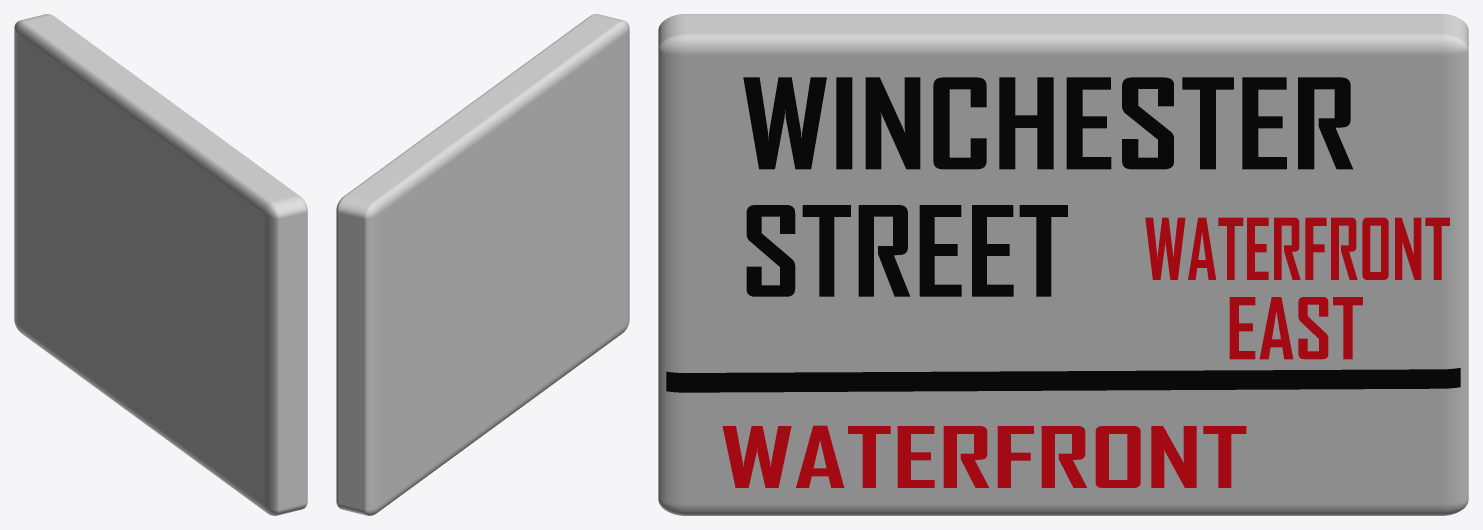
File: uk_styled_street_sign_32.fbx
3 views of the same model, side by side, from view 1: azimuth 30°, elevation 25°; view 2: azimuth 150°, elevation 25°; view 3: azimuth 270°, elevation 25° (orthographic). The views are drawn at different scales.
Visible parts, largest first — view 1: Cube; view 2: Cube; view 3: Cube, Text, Text.002, Text.001, Text.003, Text.004.
Boxes of the visible parts, left/top/right/bottom form: Cube: left=14, top=14, right=307, bottom=515; Cube: left=336, top=14, right=629, bottom=515; Cube: left=658, top=14, right=1468, bottom=515; Text: left=743, top=77, right=1352, bottom=169; Text.002: left=722, top=425, right=1246, bottom=487; Text.001: left=746, top=205, right=1067, bottom=296; Text.003: left=1145, top=217, right=1449, bottom=279; Text.004: left=1229, top=297, right=1362, bottom=359.
Size of the model in its own units: 1.63 by 11.91 by 18.18.
